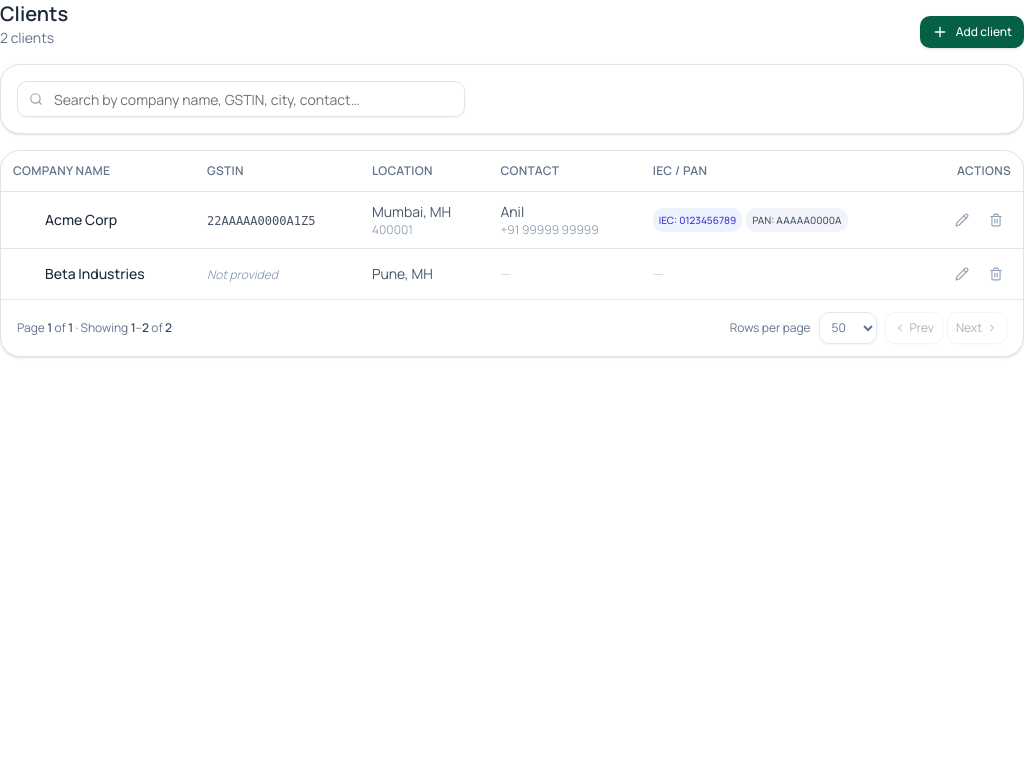
Scenario: ClientsClient — delete flow › dialog Cancel button dismisses
The image size is (1024, 768).
Click the button named "delete acme corp". click: [996, 220]
box: [981, 204, 1011, 234]
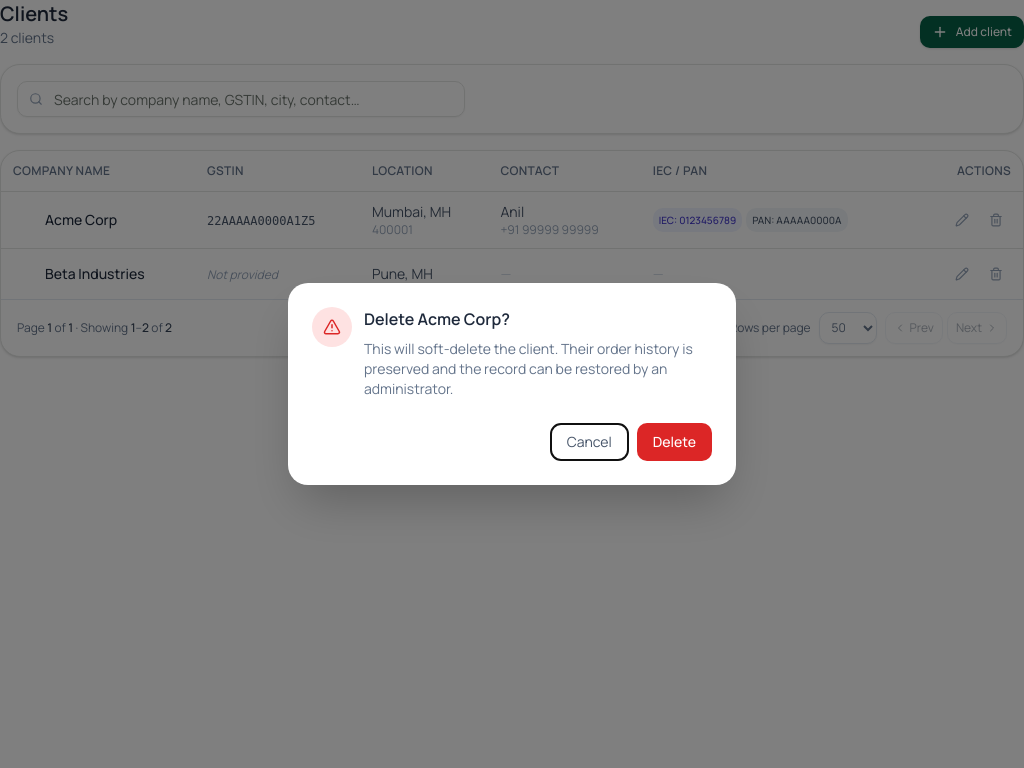
Click the button "Cancel". click: [589, 442]
box: [550, 423, 629, 461]
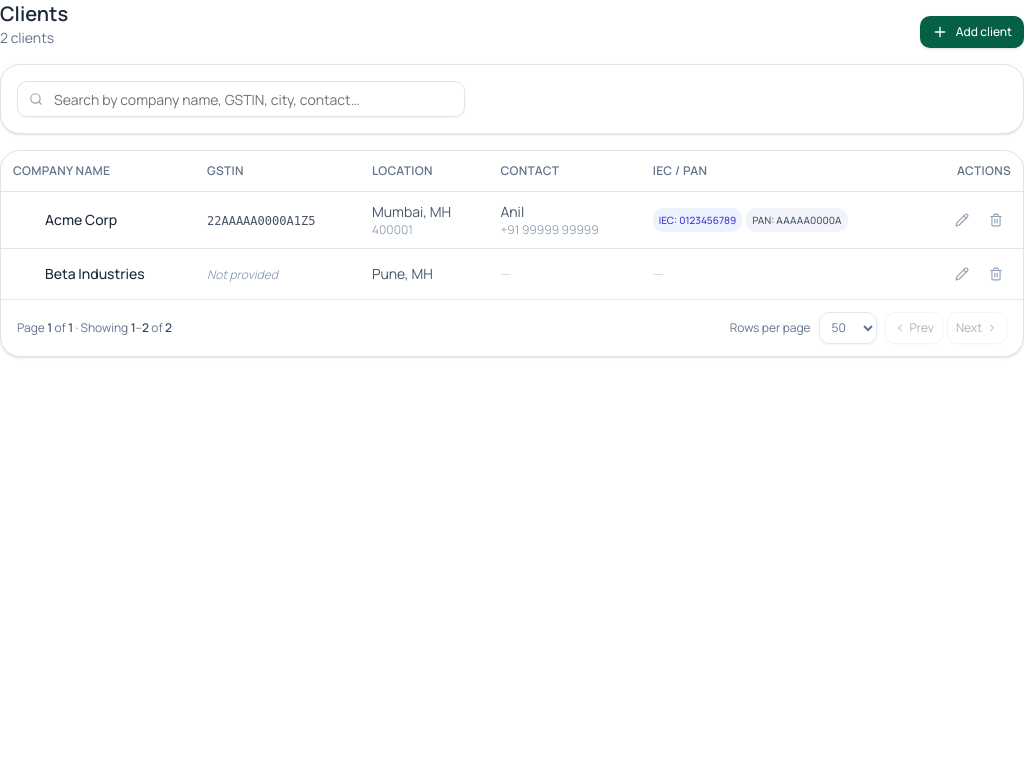
expect the heading "Delete Acme Corp?" is gone: met
